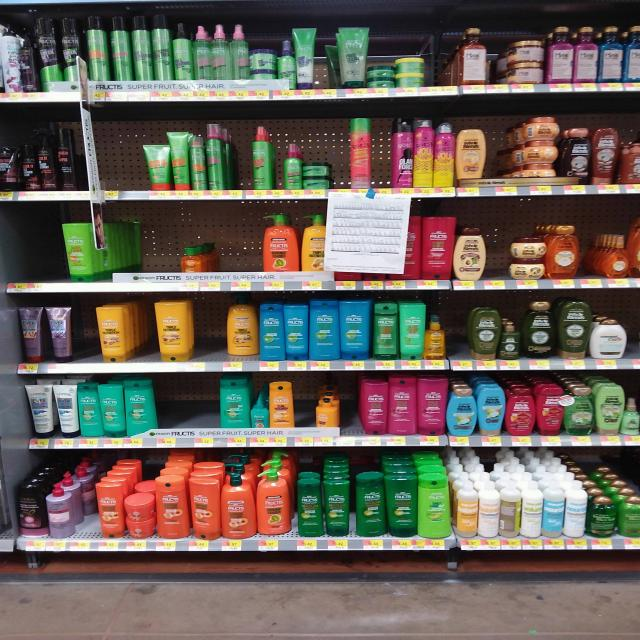void: (111, 219, 177, 272), (5, 217, 52, 282), (96, 127, 139, 187), (222, 214, 262, 272), (162, 376, 209, 425)
